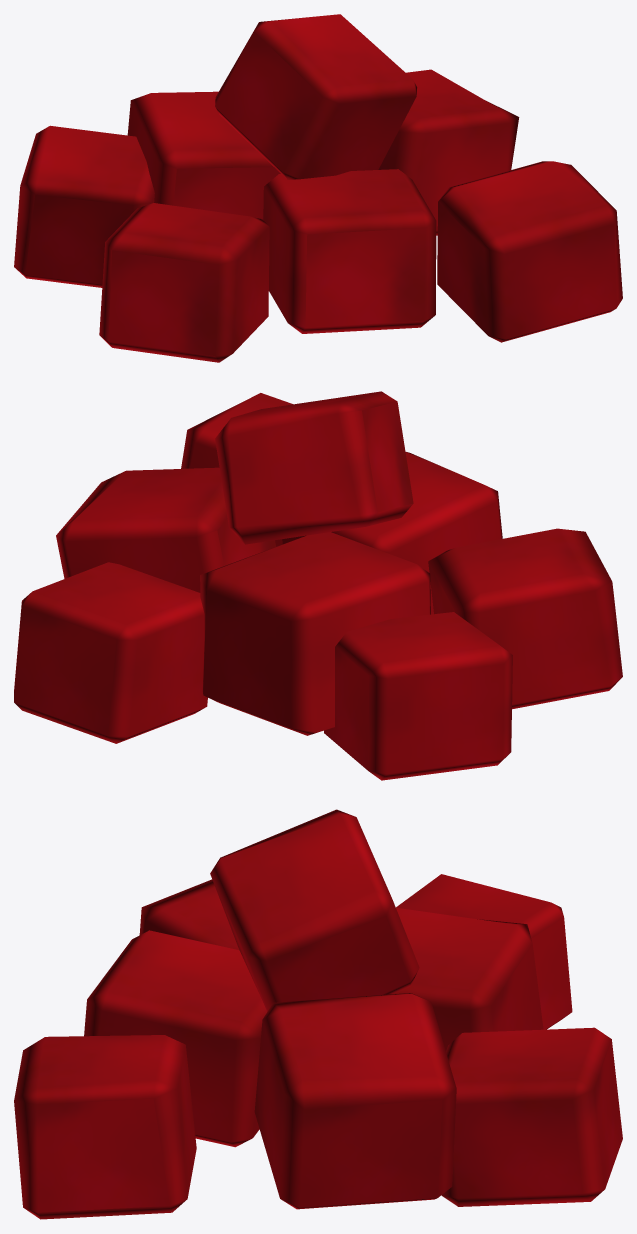
File: Meat_Sliced.fbx
3 views of the same model, one above another, from view 1: azimuth 30°, elevation 25°; view 2: azimuth 150°, elevation 25°; view 3: azimuth 270°, elevation 25° (orthographic). The views are drawn at different scales.
Visible parts, largest first — view 1: m_dlc4_prep_meat_01; view 2: m_dlc4_prep_meat_01; view 3: m_dlc4_prep_meat_01.
Part boxes in pixels (box(x1,y1,x2,y2)): m_dlc4_prep_meat_01: box(14, 14, 622, 362); m_dlc4_prep_meat_01: box(14, 391, 622, 780); m_dlc4_prep_meat_01: box(14, 809, 622, 1219).
Bounding box in the file's own units: 57.74 × 32.31 × 59.4.
